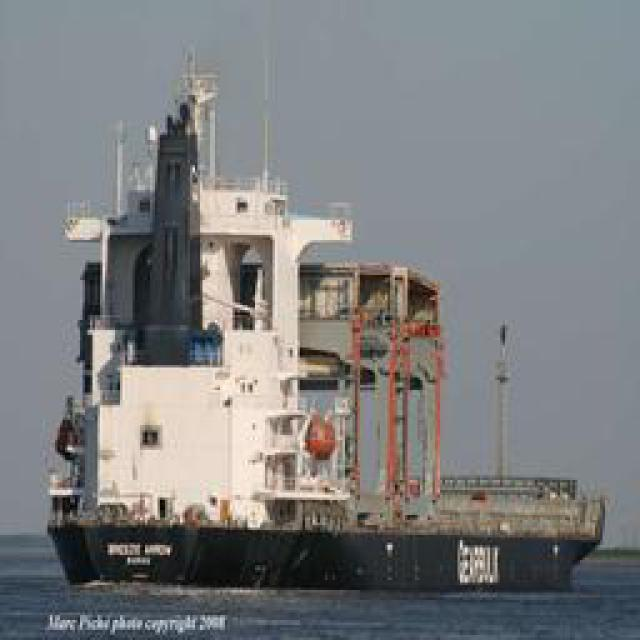Ship: (47, 21, 611, 607)
